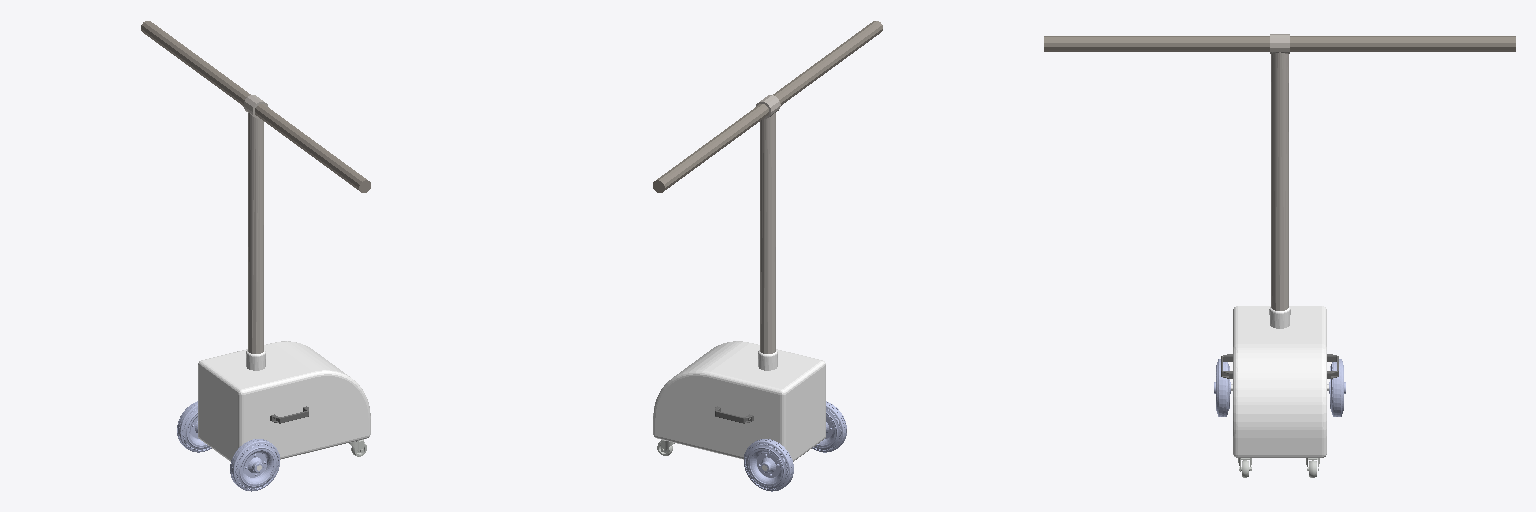
URDF robot description (modelagem3):
<?xml version="1.0" encoding="utf-8"?>
<!-- This URDF was automatically created by SolidWorks to URDF Exporter! Originally created by [author] ([email redacted]) 
     Commit Version: 1.6.0-4-g7f85cfe  Build Version: 1.6.7995.38578
     For more information, please see http://wiki.ros.org/sw_urdf_exporter -->
<robot
  name="modelagem3">
  <link
    name="corpo">
    <inertial>
      <origin
        xyz="-0.0157334965830891 -0.459999999999994 -0.0514316049391388"
        rpy="0 0 0" />
      <mass
        value="831.187091350493" />
      <inertia
        ixx="21.5625063866625"
        ixy="-7.94323452544889E-14"
        ixz="2.30052110058882"
        iyy="41.3563147714441"
        iyz="3.89735598441964E-15"
        izz="41.8913865465296" />
    </inertial>
    <visual>
      <origin
        xyz="0 0 0"
        rpy="0 0 0" />
      <geometry>
        <mesh
          filename="package://modelagem3/meshes/corpo.STL" />
      </geometry>
      <material
        name="">
        <color
          rgba="1 1 1 1" />
      </material>
    </visual>
    <collision>
      <origin
        xyz="0 0 0"
        rpy="0 0 0" />
      <geometry>
        <mesh
          filename="package://modelagem3/meshes/corpo.STL" />
      </geometry>
    </collision>
  </link>
  <link
    name="RodaF1">
    <inertial>
      <origin
        xyz="-0.0364997754572476 -1.11022302462516E-16 1.11022302462516E-16"
        rpy="0 0 0" />
      <mass
        value="1.79874269449956" />
      <inertia
        ixx="0.015878498443145"
        ixy="2.55935364314535E-17"
        ixz="-2.72472956945357E-17"
        iyy="0.0083023953948364"
        iyz="3.25260651745651E-19"
        izz="0.0083023953948364" />
    </inertial>
    <visual>
      <origin
        xyz="0 0 0"
        rpy="0 0 0" />
      <geometry>
        <mesh
          filename="package://modelagem3/meshes/RodaF1.STL" />
      </geometry>
      <material
        name="">
        <color
          rgba="0.792156862745098 0.819607843137255 0.933333333333333 1" />
      </material>
    </visual>
    <collision>
      <origin
        xyz="0 0 0"
        rpy="0 0 0" />
      <geometry>
        <mesh
          filename="package://modelagem3/meshes/RodaF1.STL" />
      </geometry>
    </collision>
  </link>
  <joint
    name="eixoF1"
    type="revolute">
    <origin
      xyz="-0.28942 -0.667 -0.20667"
      rpy="1.6032 0 1.5708" />
    <parent
      link="corpo" />
    <child
      link="RodaF1" />
    <axis
      xyz="1 0 0" />
    <limit
      lower="0"
      upper="0"
      effort="0"
      velocity="0" />
  </joint>
  <link
    name="RodaF2">
    <inertial>
      <origin
        xyz="-0.0364997754572478 -1.11022302462516E-16 1.11022302462516E-16"
        rpy="0 0 0" />
      <mass
        value="1.79874269449957" />
      <inertia
        ixx="0.015878498443145"
        ixy="1.86814051950158E-17"
        ixz="-3.24430490955079E-17"
        iyy="0.00830239539483641"
        iyz="6.50521303491303E-19"
        izz="0.00830239539483641" />
    </inertial>
    <visual>
      <origin
        xyz="0 0 0"
        rpy="0 0 0" />
      <geometry>
        <mesh
          filename="package://modelagem3/meshes/RodaF2.STL" />
      </geometry>
      <material
        name="">
        <color
          rgba="0.792156862745098 0.819607843137255 0.933333333333333 1" />
      </material>
    </visual>
    <collision>
      <origin
        xyz="0 0 0"
        rpy="0 0 0" />
      <geometry>
        <mesh
          filename="package://modelagem3/meshes/RodaF2.STL" />
      </geometry>
    </collision>
  </link>
  <joint
    name="eixoF2"
    type="revolute">
    <origin
      xyz="-0.28942 -0.18 -0.20667"
      rpy="1.8348 0 1.5708" />
    <parent
      link="corpo" />
    <child
      link="RodaF2" />
    <axis
      xyz="1 0 0" />
    <limit
      lower="0"
      upper="0"
      effort="0"
      velocity="0" />
  </joint>
  <link
    name="Alca1">
    <inertial>
      <origin
        xyz="-0.0885003692363609 0.0315828274647633 -1.71114535735262E-10"
        rpy="0 0 0" />
      <mass
        value="0.0786405605466979" />
      <inertia
        ixx="2.78152492465357E-05"
        ixy="-7.54013284406261E-11"
        ixz="3.15610154837557E-10"
        iyy="0.000329356293997707"
        iyz="1.00658694493981E-12"
        izz="0.000344978544619771" />
    </inertial>
    <visual>
      <origin
        xyz="0 0 0"
        rpy="0 0 0" />
      <geometry>
        <mesh
          filename="package://modelagem3/meshes/Alca1.STL" />
      </geometry>
      <material
        name="">
        <color
          rgba="0.501960784313725 0.501960784313725 0.501960784313725 1" />
      </material>
    </visual>
    <collision>
      <origin
        xyz="0 0 0"
        rpy="0 0 0" />
      <geometry>
        <mesh
          filename="package://modelagem3/meshes/Alca1.STL" />
      </geometry>
    </collision>
  </link>
  <joint
    name="alcafixa1"
    type="fixed">
    <origin
      xyz="0.002581 -0.66 -0.011674"
      rpy="-3.1416 0 0" />
    <parent
      link="corpo" />
    <child
      link="Alca1" />
    <axis
      xyz="0 0 0" />
  </joint>
  <link
    name="Alca2">
    <inertial>
      <origin
        xyz="-3.69236361430492E-07 0.0315828274647621 -1.71114220015589E-10"
        rpy="0 0 0" />
      <mass
        value="0.0786405605466976" />
      <inertia
        ixx="2.78152492465357E-05"
        ixy="-7.54013308839736E-11"
        ixz="3.1561015702756E-10"
        iyy="0.000329356293997706"
        iyz="1.00658692723597E-12"
        izz="0.00034497854461977" />
    </inertial>
    <visual>
      <origin
        xyz="0 0 0"
        rpy="0 0 0" />
      <geometry>
        <mesh
          filename="package://modelagem3/meshes/Alca2.STL" />
      </geometry>
      <material
        name="">
        <color
          rgba="0.501960784313725 0.501960784313725 0.501960784313725 1" />
      </material>
    </visual>
    <collision>
      <origin
        xyz="0 0 0"
        rpy="0 0 0" />
      <geometry>
        <mesh
          filename="package://modelagem3/meshes/Alca2.STL" />
      </geometry>
    </collision>
  </link>
  <joint
    name="alcafixa2"
    type="fixed">
    <origin
      xyz="-0.085919 -0.26 -0.011674"
      rpy="0 0 0" />
    <parent
      link="corpo" />
    <child
      link="Alca2" />
    <axis
      xyz="0 0 0" />
  </joint>
  <link
    name="RodaB1">
    <inertial>
      <origin
        xyz="0.0268128447902884 -0.0497671963283731 1.44827982384577E-07"
        rpy="0 0 0" />
      <mass
        value="1.11891461916953" />
      <inertia
        ixx="0.00058123900459818"
        ixy="2.33039359792154E-05"
        ixz="-3.98329056463793E-09"
        iyy="0.000767935830161438"
        iyz="-2.41929146907131E-09"
        izz="0.000872015950337573" />
    </inertial>
    <visual>
      <origin
        xyz="0 0 0"
        rpy="0 0 0" />
      <geometry>
        <mesh
          filename="package://modelagem3/meshes/RodaB1.STL" />
      </geometry>
      <material
        name="">
        <color
          rgba="0.827450980392157 0.83921568627451 0.827450980392157 1" />
      </material>
    </visual>
    <collision>
      <origin
        xyz="0 0 0"
        rpy="0 0 0" />
      <geometry>
        <mesh
          filename="package://modelagem3/meshes/RodaB1.STL" />
      </geometry>
    </collision>
  </link>
  <joint
    name="eixoB1"
    type="revolute">
    <origin
      xyz="0.28091 -0.60732 -0.23867"
      rpy="1.5708 0 0" />
    <parent
      link="corpo" />
    <child
      link="RodaB1" />
    <axis
      xyz="0 1 0" />
    <limit
      lower="0"
      upper="0"
      effort="0"
      velocity="0" />
  </joint>
  <link
    name="RodaB2">
    <inertial>
      <origin
        xyz="-0.0155371552212751 -0.0497671963283732 0.0300501448279821"
        rpy="0 0 0" />
      <mass
        value="1.11891461916965" />
      <inertia
        ixx="0.000581239004598237"
        ixy="2.33039361380988E-05"
        ixz="-3.98336471160395E-09"
        iyy="0.000767943704580933"
        iyz="-2.41929148474213E-09"
        izz="0.000872023824757086" />
    </inertial>
    <visual>
      <origin
        xyz="0 0 0"
        rpy="0 0 0" />
      <geometry>
        <mesh
          filename="package://modelagem3/meshes/RodaB2.STL" />
      </geometry>
      <material
        name="">
        <color
          rgba="0.827450980392157 0.83921568627451 0.827450980392157 1" />
      </material>
    </visual>
    <collision>
      <origin
        xyz="0 0 0"
        rpy="0 0 0" />
      <geometry>
        <mesh
          filename="package://modelagem3/meshes/RodaB2.STL" />
      </geometry>
    </collision>
  </link>
  <joint
    name="eixoB2"
    type="revolute">
    <origin
      xyz="0.32543 -0.28995 -0.23867"
      rpy="1.5708 0 0" />
    <parent
      link="corpo" />
    <child
      link="RodaB2" />
    <axis
      xyz="0 1 0" />
    <limit
      lower="0"
      upper="0"
      effort="0"
      velocity="0" />
  </joint>
  <link
    name="barra_vertical">
    <inertial>
      <origin
        xyz="0.677075466810363 2.38697950294409E-15 4.9960036108132E-16"
        rpy="0 0 0" />
      <mass
        value="46.9865733241111" />
      <inertia
        ixx="0.0341531133134682"
        ixy="-2.58890846376507E-14"
        ixz="-5.71006794466207E-15"
        iyy="7.2189996525033"
        iyz="-1.3523770690007E-08"
        izz="7.21873579285521" />
    </inertial>
    <visual>
      <origin
        xyz="0 0 0"
        rpy="0 0 0" />
      <geometry>
        <mesh
          filename="package://modelagem3/meshes/barra_vertical.STL" />
      </geometry>
      <material
        name="">
        <color
          rgba="0.776470588235294 0.756862745098039 0.737254901960784 1" />
      </material>
    </visual>
    <collision>
      <origin
        xyz="0 0 0"
        rpy="0 0 0" />
      <geometry>
        <mesh
          filename="package://modelagem3/meshes/barra_vertical.STL" />
      </geometry>
    </collision>
  </link>
  <joint
    name="junta_fixa_vertical"
    type="fixed">
    <origin
      xyz="-0.14442 -0.46 0.12833"
      rpy="0 -1.5708 0" />
    <parent
      link="corpo" />
    <child
      link="barra_vertical" />
    <axis
      xyz="0 0 0" />
  </joint>
  <link
    name="barra_horizontal">
    <inertial>
      <origin
        xyz="0 5.55111512312578E-17 0"
        rpy="0 0 0" />
      <mass
        value="51.1019315014549" />
      <inertia
        ixx="17.0474712709387"
        ixy="5.33186613133201E-14"
        ixz="1.88213533724175E-28"
        iyy="0.0269882075742058"
        iyz="-6.01026447317545E-14"
        izz="17.0474712709387" />
    </inertial>
    <visual>
      <origin
        xyz="0 0 0"
        rpy="0 0 0" />
      <geometry>
        <mesh
          filename="package://modelagem3/meshes/barra_horizontal.STL" />
      </geometry>
      <material
        name="">
        <color
          rgba="0.647058823529412 0.619607843137255 0.588235294117647 1" />
      </material>
    </visual>
    <collision>
      <origin
        xyz="0 0 0"
        rpy="0 0 0" />
      <geometry>
        <mesh
          filename="package://modelagem3/meshes/barra_horizontal.STL" />
      </geometry>
    </collision>
  </link>
  <joint
    name="junta_horizontal"
    type="prismatic">
    <origin
      xyz="1.343 0 0"
      rpy="0 -1.5708 0" />
    <parent
      link="barra_vertical" />
    <child
      link="barra_horizontal" />
    <axis
      xyz="0 0 1" />
    <limit
      lower="0"
      upper="0"
      effort="0"
      velocity="0" />
  </joint>
</robot>

--- Render facts (derived) ---
3 views of the same robot in one strip: view 1: azimuth 30°, elevation 25°; view 2: azimuth 150°, elevation 25°; view 3: azimuth 270°, elevation 25° (orthographic).
Robot: modelagem3 — 9 links, 8 joints (4 revolute, 1 prismatic, 3 fixed); root link corpo; default pose: every joint at zero.
Visible links, largest first — view 1: corpo, barra_vertical, barra_horizontal, RodaF1, RodaF2; view 2: corpo, barra_vertical, barra_horizontal, RodaF2, RodaF1; view 3: corpo, barra_horizontal, barra_vertical, RodaF2, RodaF1.
Boxes of the visible links, x1,y1,x2,y2 form: corpo: (198,341,370,470); barra_vertical: (243,95,267,353); barra_horizontal: (141,21,370,192); RodaF1: (230,439,279,491); RodaF2: (177,401,211,452); corpo: (653,341,825,470); barra_vertical: (756,95,780,353); barra_horizontal: (653,21,882,192); RodaF2: (744,439,793,491); RodaF1: (812,401,846,452); corpo: (1231,306,1328,457); barra_horizontal: (1044,36,1515,51); barra_vertical: (1270,34,1289,310); RodaF2: (1329,359,1345,416); RodaF1: (1214,359,1230,416).
Bounding box of the posed robot: 0.7704 × 2 × 1.86 m (x, y, z).
9 mesh visuals loaded from 9 distinct referenced files (9 binary STL).